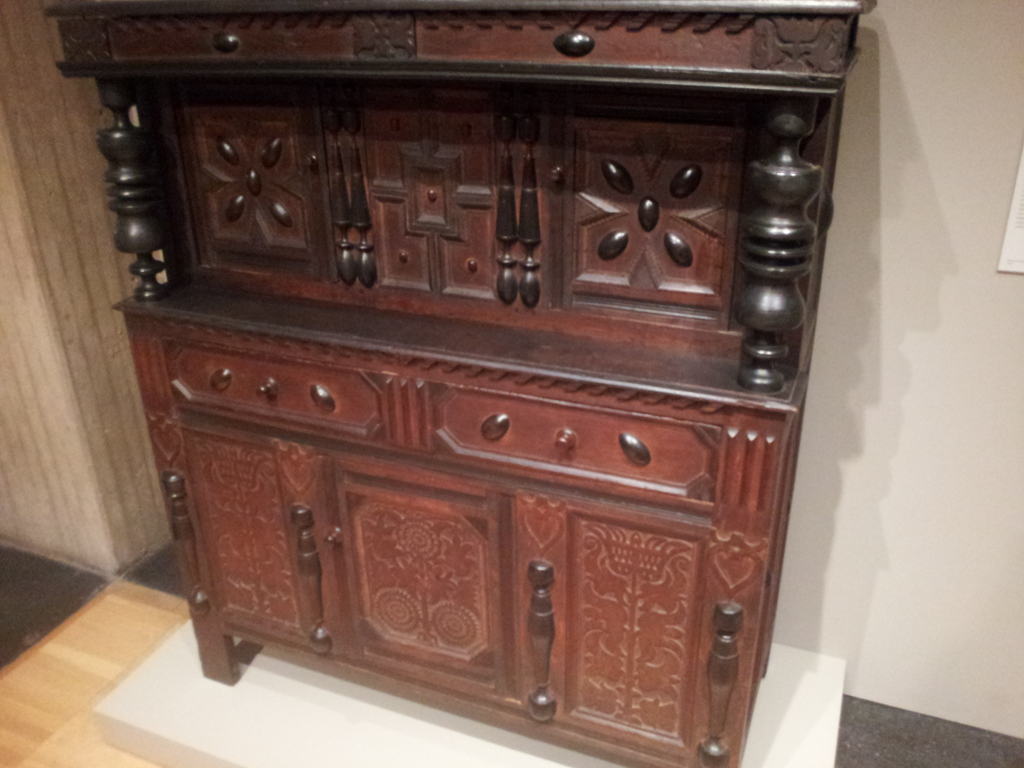cabinet door: (338, 477, 502, 657), (571, 525, 686, 719), (187, 428, 283, 612)
handle: (321, 523, 346, 551)
